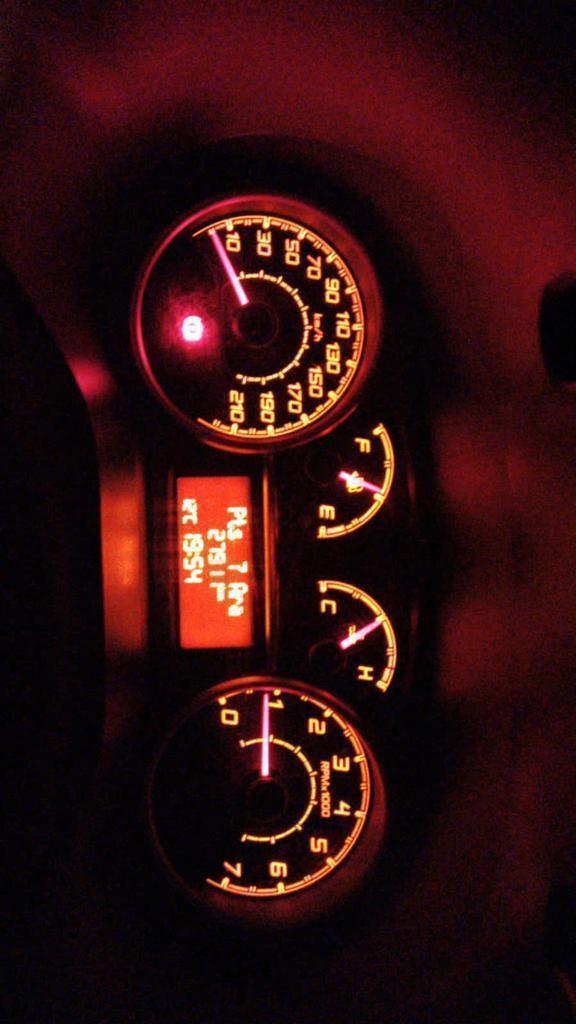1: (207, 570, 226, 577), (181, 532, 203, 538), (206, 581, 226, 587), (180, 498, 198, 502)
2: (206, 528, 226, 541), (180, 502, 198, 511)
4: (183, 569, 204, 583)
5: (182, 556, 204, 569)
7: (228, 560, 249, 574), (208, 542, 226, 552)
9: (182, 538, 204, 551), (207, 552, 226, 565)
X: (227, 506, 247, 518), (226, 518, 247, 528), (228, 583, 249, 593), (227, 593, 245, 604), (227, 605, 245, 616), (226, 529, 243, 540), (182, 515, 198, 525), (215, 593, 225, 601), (216, 587, 227, 593), (186, 552, 201, 555)
odometer: (170, 468, 259, 655)
